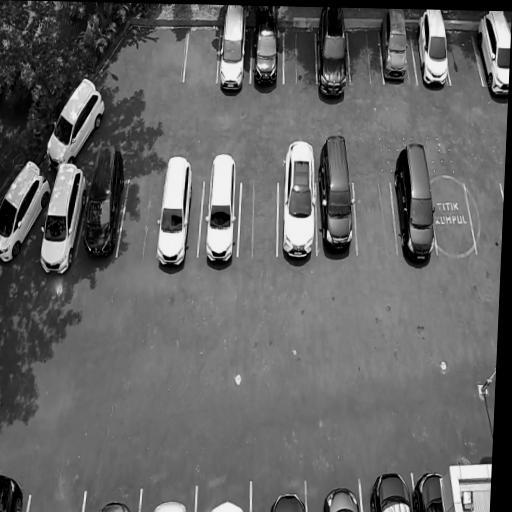Car: (36, 68, 111, 177), (33, 159, 90, 279), (0, 150, 57, 269), (391, 129, 436, 270), (152, 140, 196, 277), (80, 147, 131, 261), (280, 134, 319, 270), (200, 144, 243, 265), (319, 125, 358, 253), (477, 11, 511, 105), (418, 9, 452, 91), (367, 458, 415, 512), (382, 9, 411, 83), (401, 455, 435, 512), (0, 453, 31, 512), (320, 476, 365, 512), (267, 486, 309, 512), (97, 489, 134, 512), (152, 494, 188, 512), (209, 494, 245, 512)
Space Available: (433, 171, 480, 258), (116, 177, 164, 253), (354, 174, 397, 252), (239, 174, 279, 257), (467, 175, 504, 252), (183, 21, 222, 83), (347, 23, 385, 86), (446, 23, 484, 83), (285, 23, 315, 89)
